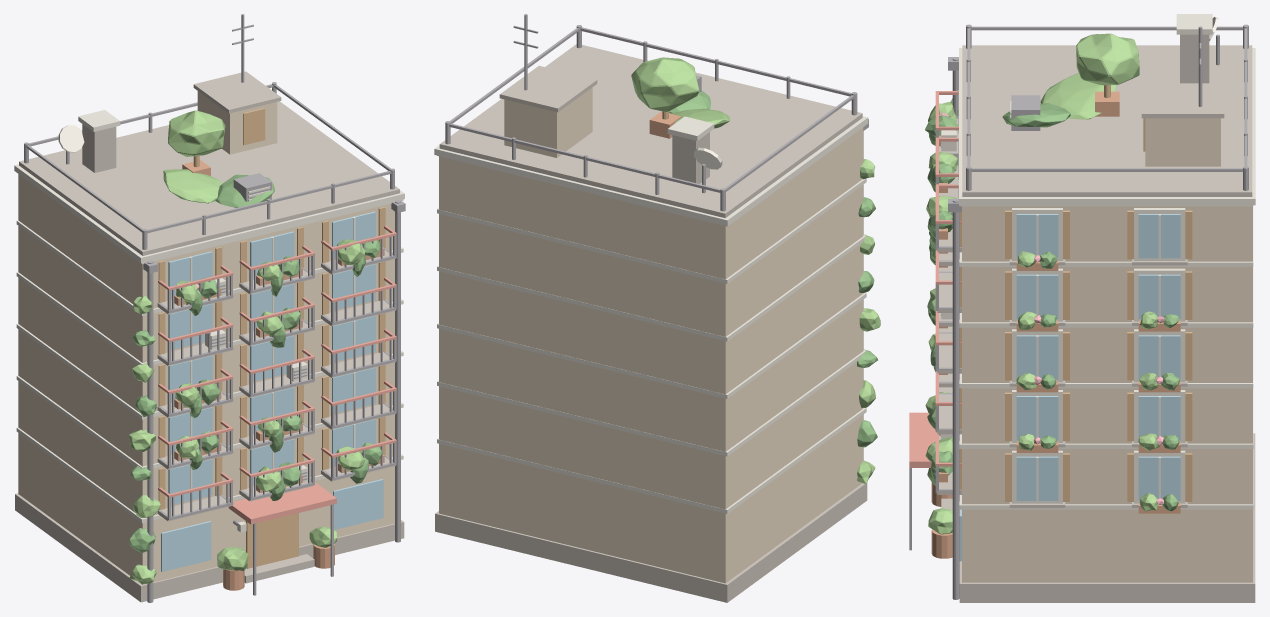
The model's file is Building_Apartment_A.fbx.
The picture shows the model from 3 angles, left to right: view 1: azimuth 30°, elevation 25°; view 2: azimuth 150°, elevation 25°; view 3: azimuth 270°, elevation 25°; orthographic projection. The views are drawn at different scales.
Visible parts, largest first — view 1: Building_Apartment_A, Building_Apartment_A_Veg; view 2: Building_Apartment_A, Building_Apartment_A_Veg; view 3: Building_Apartment_A, Building_Apartment_A_Veg.
Part boxes in pixels (bbox=[...]): Building_Apartment_A: bbox=[14, 14, 405, 602]; Building_Apartment_A_Veg: bbox=[129, 110, 384, 590]; Building_Apartment_A: bbox=[434, 14, 868, 602]; Building_Apartment_A_Veg: bbox=[631, 57, 880, 483]; Building_Apartment_A: bbox=[909, 14, 1255, 602]; Building_Apartment_A_Veg: bbox=[925, 33, 1180, 558].
Bounding box in the file's own units: 6.73 × 10.28 × 5.95.
